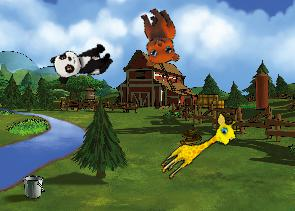bear: (126, 3, 187, 72)
giraffe: (156, 108, 244, 189)
panda: (49, 38, 115, 86)
